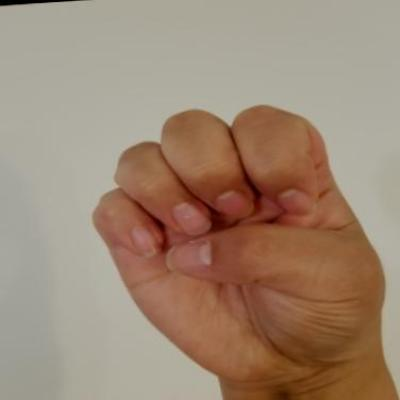hand: (74, 91, 399, 399)
